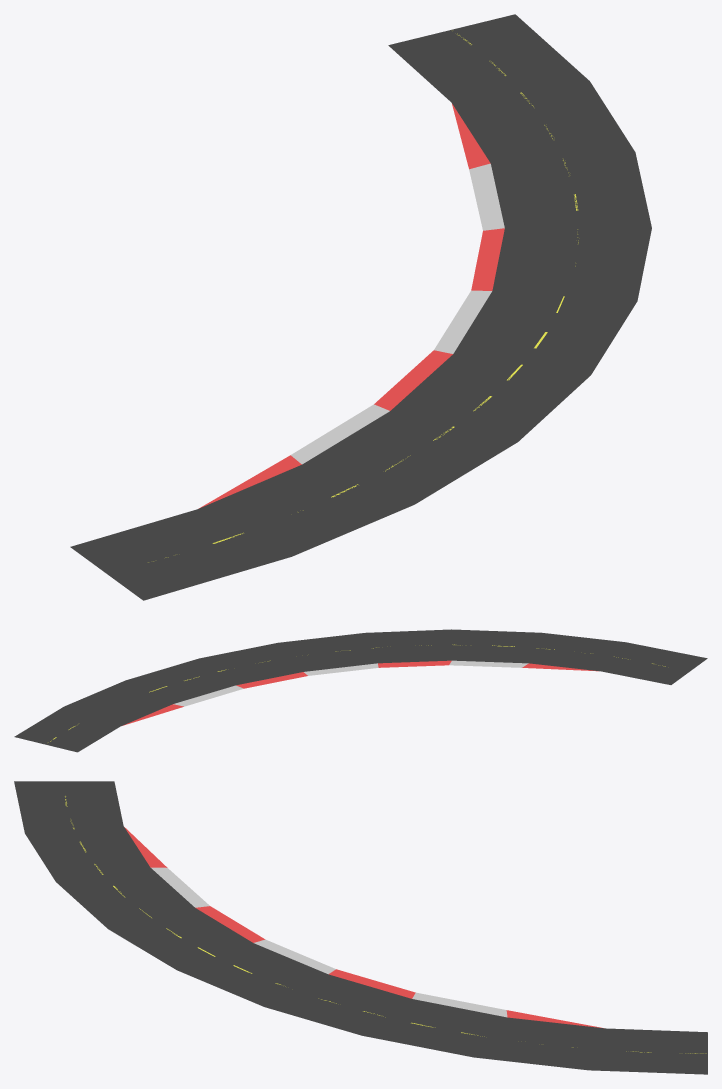
The model's file is stur.obj.
3 views of the same model, one above another, from view 1: azimuth 30°, elevation 25°; view 2: azimuth 150°, elevation 25°; view 3: azimuth 270°, elevation 25° (orthographic). The views are drawn at different scales.
Bounding box in the file's own units: 1658 × 0 × 1658.
